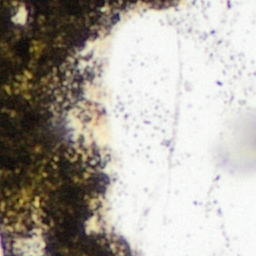cement_matrix: (0, 0, 171, 255), (14, 7, 27, 24)
gravel_crushed_stones: (63, 0, 255, 255), (13, 226, 44, 255), (15, 8, 26, 23), (0, 249, 1, 255)
